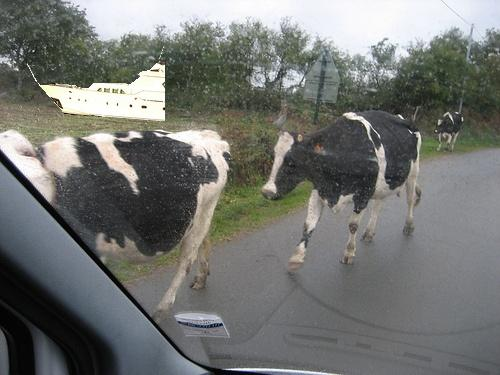tampered: (27, 44, 165, 121)
